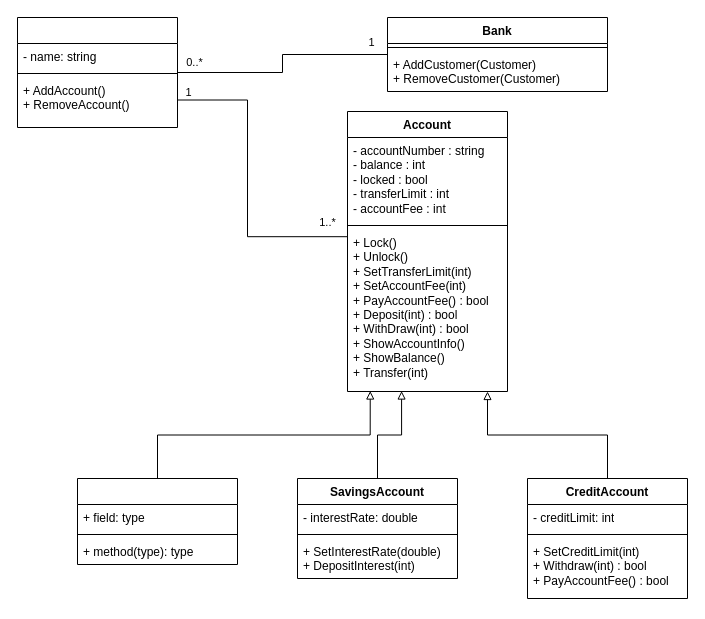
Some shapes in this 705 by 619 pixel diagram are drawn without their labels. Here are the shapes that lost their labels. From the top down, the box of each, then its label:
(16, 16, 178, 128): Customer
(76, 478, 238, 564): TransactionAccount
